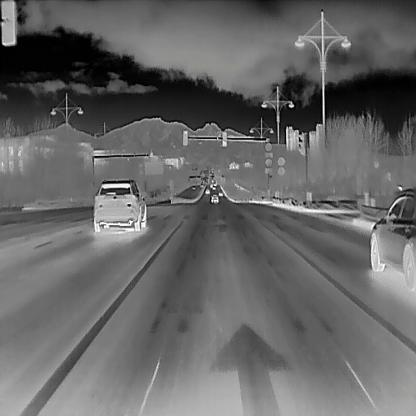car: (368, 188, 415, 291), (93, 178, 146, 232), (210, 193, 218, 202), (217, 191, 223, 197), (191, 184, 196, 190), (204, 189, 209, 194), (211, 184, 216, 189), (199, 183, 203, 187)
